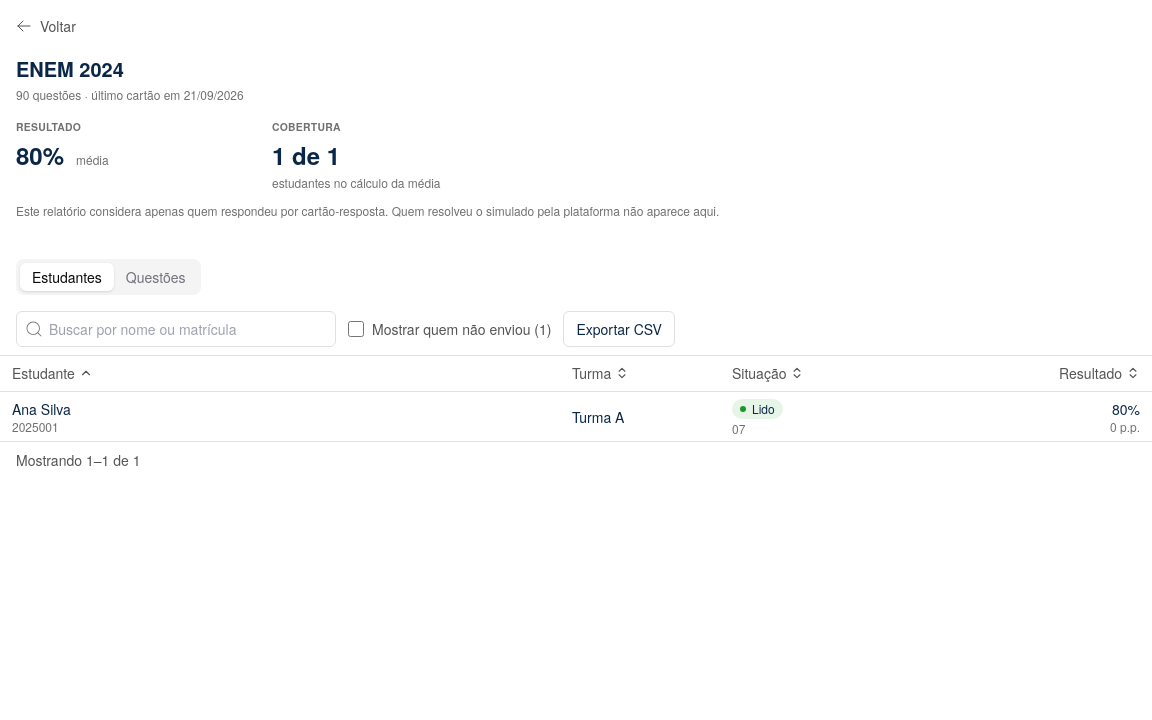
Test case: RelatorioSimulado — filtros da tabela › a busca filtra por nome
Expected: the text "Ana Silva" is shown, [12,399,71,419]
Click the checkbox with test id "toggle-nao-enviaram": (356, 329) [348,321,364,337]
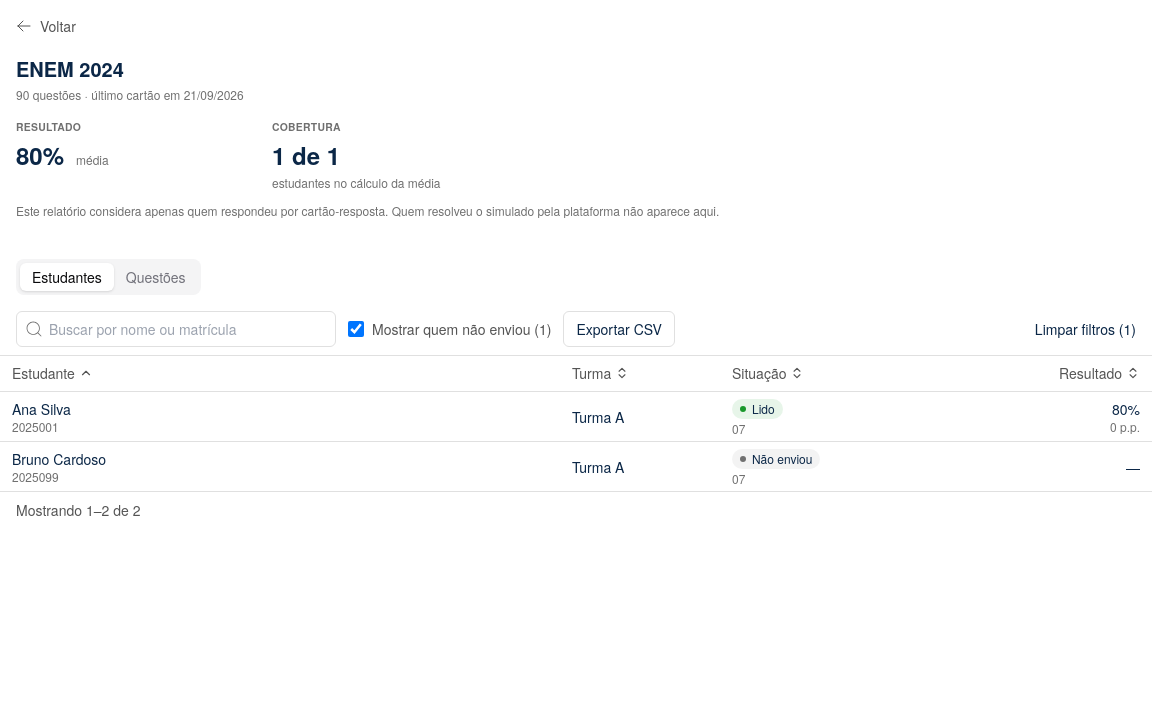
In the search field with placeholder "Buscar por nome ou matrícula": (176, 329) [16,311,336,347], type "bruno"
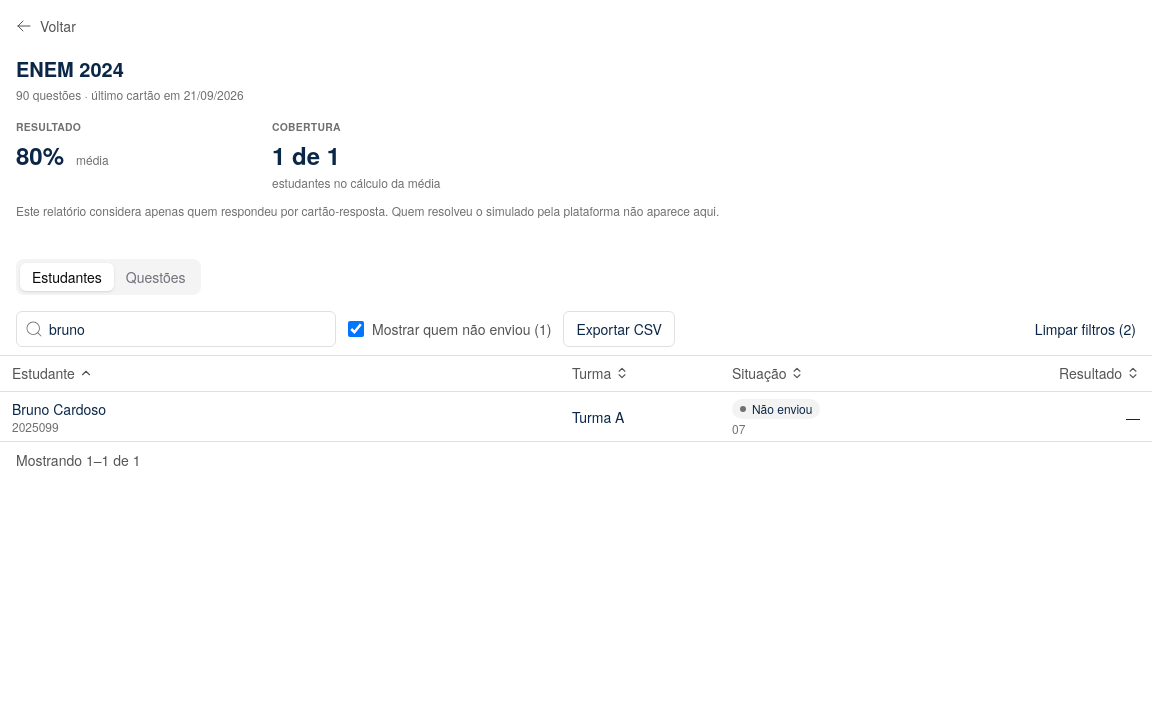
Expected: the text "Bruno Cardoso" is shown, [12,399,106,419]
Expected: the button "Ana Silva" is gone
